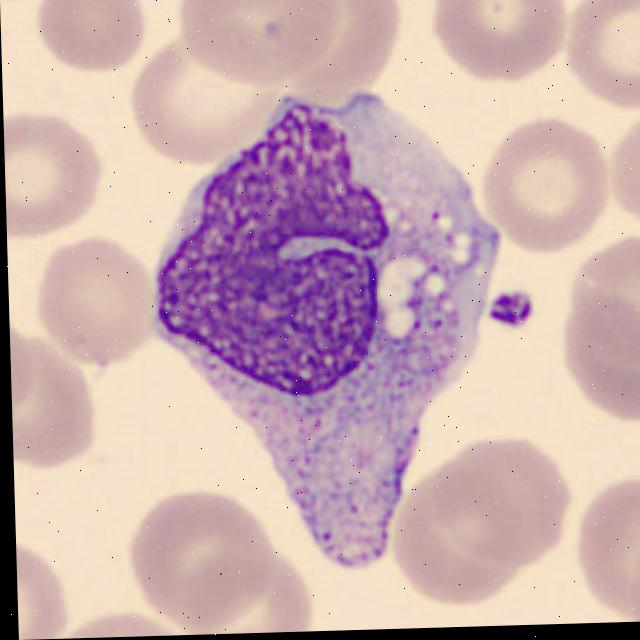monocyte: (135, 101, 500, 578)
platelets: (480, 286, 543, 340)
rbc: (127, 41, 285, 177), (382, 463, 522, 616), (125, 499, 276, 632), (470, 119, 608, 263), (27, 243, 176, 374), (439, 442, 568, 584), (266, 0, 408, 118), (178, 0, 337, 89), (3, 107, 105, 245), (426, 0, 568, 97), (183, 543, 315, 635), (10, 341, 99, 475), (562, 294, 640, 444), (34, 0, 158, 94), (560, 234, 640, 375), (579, 475, 640, 622), (568, 0, 640, 124), (16, 536, 71, 640), (70, 604, 189, 638), (609, 111, 640, 232), (9, 310, 39, 428), (627, 508, 640, 622)
